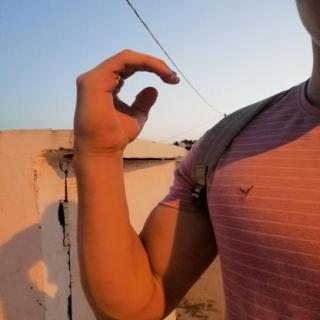JEEM: (58, 41, 190, 165)
